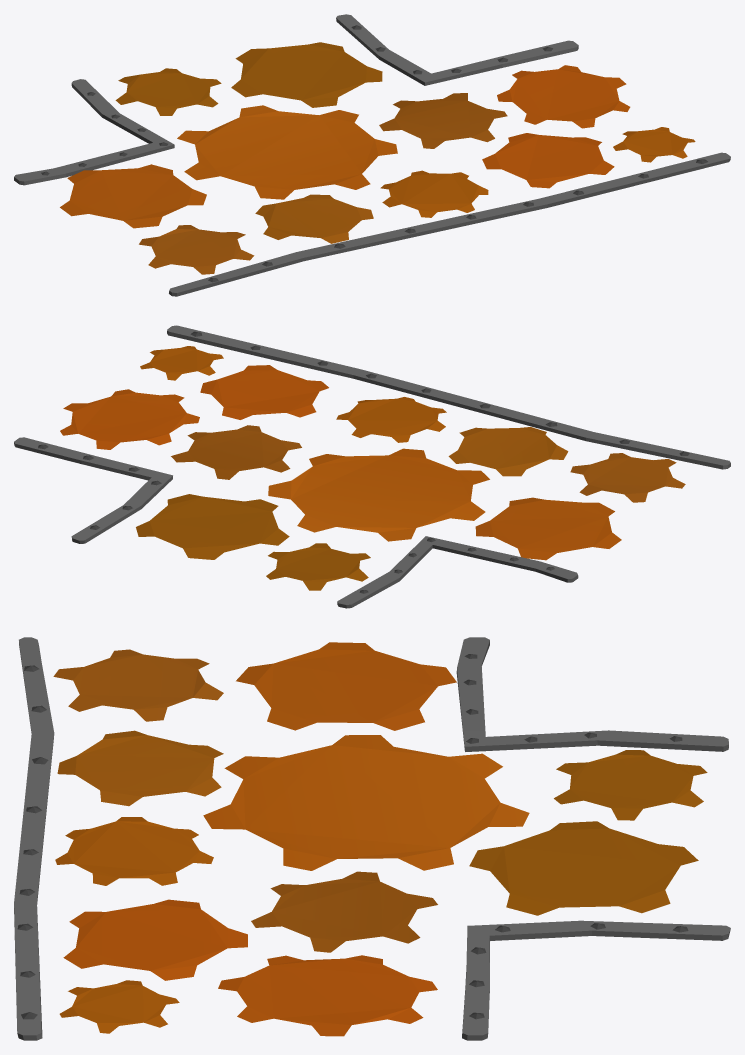
File: Road T Short.glb
3 renders of one model, top to bottom at view 1: azimuth 30°, elevation 25°; view 2: azimuth 150°, elevation 25°; view 3: azimuth 270°, elevation 25°, orthographic. The views are drawn at different scales.
Visible parts, largest first — view 1: RoadTShort; view 2: RoadTShort; view 3: RoadTShort.
Boxes of the visible parts, <box> form: RoadTShort: <box>14,14,730,296</box>; RoadTShort: <box>14,325,730,608</box>; RoadTShort: <box>14,637,730,1040</box>.
Size of what is drawn, in the model's own units: 4 by 0.0402 by 3.05.
1 material, 1 textured.
